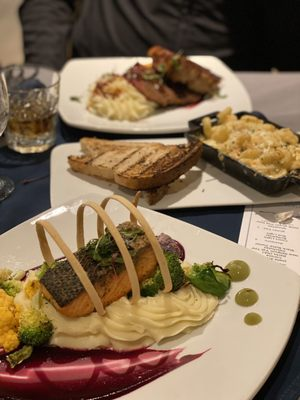pizza: (0, 63, 61, 155)
salad: (36, 220, 107, 318)
